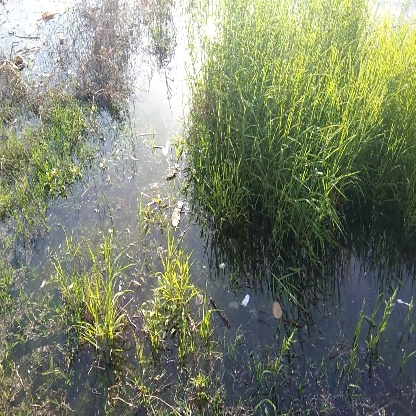grass: (74, 257, 133, 353)
